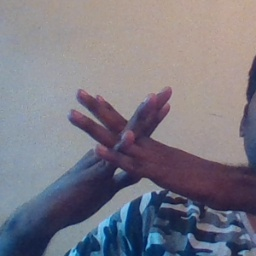W: (58, 75, 189, 216)
